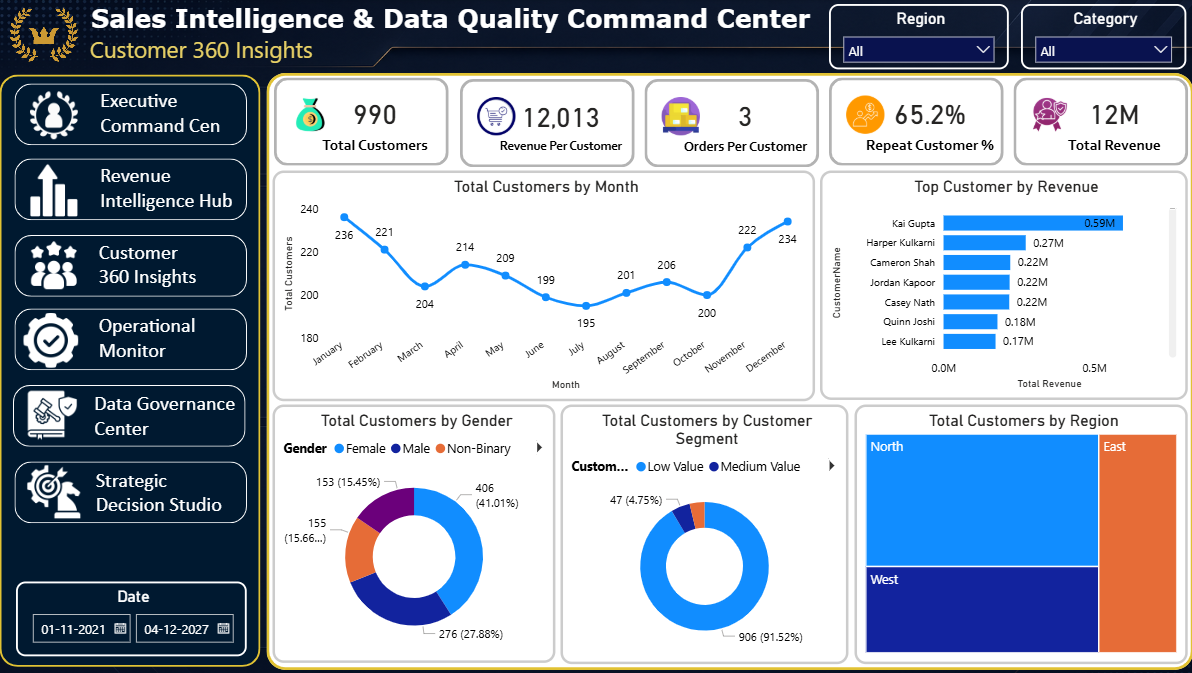

This screenshot's page, from the dashboard's own definition file:
{"tool":"powerbi","page":{"name":"Customer 360 Insights","canvas":[1280,720],"ordinal":2},"visuals":[{"type":"textbox","box":[0,0,1280.7,80.9],"z":0,"group":"g17"},{"type":"shape","box":[291.3,79,983,633.1],"z":0,"group":"g10"},{"type":"shape","box":[8,81.1,276.8,628.3],"z":0,"group":"g9"},{"type":"shape","box":[299.2,83.5,185.2,93.6],"z":0,"group":"g8"},{"type":"shape","box":[888.1,83.9,185.2,93.6],"z":0,"group":"g3"},{"type":"shape","box":[1084,83.9,185.2,93.6],"z":0,"group":"g1"},{"type":"shape","box":[692.1,84.7,185.2,93.6],"z":0,"group":"g6"},{"type":"shape","box":[496.3,85.6,185.2,93.6],"z":0,"group":"g7"},{"type":"textbox","box":[110.5,90.2,161.8,67.4],"z":0,"group":"g16"},{"type":"textbox","box":[109.5,170.6,161.8,67.4],"z":0,"group":"g15"},{"type":"textbox","box":[107.9,251.1,148.3,65.5],"z":0,"group":"g14"},{"type":"textbox","box":[108.3,329.5,161.8,65.5],"z":0,"group":"g13"},{"type":"textbox","box":[104.5,411.2,167.5,65.5],"z":0,"group":"g12"},{"type":"textbox","box":[105.7,492.9,161.8,63.6],"z":0,"group":"g11"},{"type":"donutChart","fields":{"Category":["Dim_Customer.Customer Segment"],"Y":["Measure.Total Customers"]},"box":[602.6,430.5,305.4,275.2],"z":577,"group":"g4"},{"type":"treemap","fields":{"Values":["Measure.Total Customers"],"Details":["Dim_Location.Region"]},"box":[913.8,430.5,353.6,275.2],"z":585,"group":"g4"},{"type":"donutChart","fields":{"Category":["Dim_Customer.Gender"],"Y":["Measure.Total Customers"]},"box":[297.2,430.8,300.2,274],"z":593,"group":"g4"},{"type":"clusteredBarChart","title":"Top Customer by Revenue","fields":{"Category":["Dim_Customer.CustomerName"],"Y":["Measure.Total Revenue"]},"box":[877.8,183.1,390,243.4],"z":625,"group":"g2"},{"type":"lineChart","fields":{"Category":["Dim_Date.Date.Variation.Date Hierarchy.Month"],"Y":["Measure.Total Customers"]},"box":[297.6,183.1,575.4,245],"z":750,"group":"g2"},{"type":"image","box":[15.4,9.6,77,59.7],"z":1000,"group":"g17"},{"type":"card","fields":{"Values":["Measure.Total Customers"]},"box":[328.3,83.5,156.1,93.6],"z":1000,"group":"g8"},{"type":"card","fields":{"Values":["Measure.Repeat Customer %"]},"box":[917.2,83.9,156.1,93.6],"z":1000,"group":"g3"},{"type":"group","id":"g1","title":"Card-5","box":[1084,83.9,183.9,93.4],"z":1000,"group":"g5"},{"type":"card","fields":{"Values":["Measure.Total Revenue"]},"box":[1113.1,83.9,156.1,93.6],"z":1000,"group":"g1"},{"type":"card","fields":{"Values":["Measure.Orders Per Customer"]},"box":[721.2,84.7,156.1,93.6],"z":1000,"group":"g6"},{"type":"card","fields":{"Values":["Measure.Revenue Per Customer"]},"box":[525.4,85.6,156.1,93.6],"z":1000,"group":"g7"},{"type":"shape","box":[24.3,90.6,246.5,65.5],"z":1000,"group":"g16"},{"type":"shape","box":[23.3,171,246.5,65.5],"z":1000,"group":"g15"},{"type":"group","id":"g2","title":"Group 2","box":[297.6,183.1,970.3,245],"z":1000,"group":"g10"},{"type":"shape","box":[23.7,250.8,246.5,65.5],"z":1000,"group":"g14"},{"type":"shape","box":[24.1,328.9,246.5,65.5],"z":1000,"group":"g13"},{"type":"shape","box":[22.8,410.3,246.5,65.5],"z":1000,"group":"g12"},{"type":"shape","box":[23.8,491,246.5,65.5],"z":1000,"group":"g11"},{"type":"group","id":"g3","title":"Card-4","box":[888.1,83.9,183.9,93.4],"z":2000,"group":"g5"},{"type":"image","box":[37.8,94.5,57.8,57.8],"z":2000,"group":"g16"},{"type":"image","box":[316.4,102.1,42.2,40.5],"z":2000,"group":"g8"},{"type":"image","box":[905.3,102.5,42.2,40.5],"z":2000,"group":"g3"},{"type":"image","box":[1101.2,102.5,42.2,40.5],"z":2000,"group":"g1"},{"type":"image","box":[709.3,103.3,42.2,40.5],"z":2000,"group":"g6"},{"type":"image","box":[513.5,104.2,42.2,40.5],"z":2000,"group":"g7"},{"type":"image","box":[36.8,174.9,57.8,57.8],"z":2000,"group":"g15"},{"type":"image","box":[37.2,254.7,57.8,57.8],"z":2000,"group":"g14"},{"type":"image","box":[33.2,333.3,57.8,57.8],"z":2000,"group":"g13"},{"type":"image","box":[36.3,414.2,57.8,57.8],"z":2000,"group":"g12"},{"type":"group","id":"g4","title":"Group 1","box":[297.2,430.5,970.3,275.2],"z":2000,"group":"g10"},{"type":"image","box":[37.3,494.9,57.8,57.8],"z":2000,"group":"g11"},{"type":"group","id":"g5","title":"Group 3","box":[299.2,83.5,968.7,95.4],"z":3000,"group":"g10"},{"type":"group","id":"g6","title":"Card-3","box":[692.1,84.7,183.9,93.4],"z":3000,"group":"g5"},{"type":"group","id":"g7","title":"Card-2","box":[496.3,85.6,183.9,93.4],"z":4000,"group":"g5"},{"type":"group","id":"g8","title":"Card-1","box":[299.2,83.5,184.7,92.9],"z":5000,"group":"g5"},{"type":"slicer","title":"Date","fields":{"Values":["Dim_Date.Date"]},"box":[25.4,618.7,245,79.5],"z":5000,"group":"g9"},{"type":"group","id":"g9","title":"Base","box":[0,0,1280.7,709.4],"z":6250},{"type":"group","id":"g10","title":"Center","box":[291.3,79,983,633.1],"z":6501},{"type":"group","id":"g11","title":"Button-6","box":[23.8,491,246.5,65.5],"z":9000,"group":"g9"},{"type":"group","id":"g12","title":"Button-5","box":[22.8,410.3,249.3,66.4],"z":9062,"group":"g9"},{"type":"group","id":"g13","title":"Button-4","box":[24.1,328.9,246.5,66.1],"z":9125,"group":"g9"},{"type":"group","id":"g14","title":"Button-3","box":[23.7,250.8,246.5,65.8],"z":9250,"group":"g9"},{"type":"group","id":"g15","title":"Button-2","box":[23.3,170.6,247.9,67.4],"z":9500,"group":"g9"},{"type":"group","id":"g16","title":"Button-1","box":[24.3,90.2,248.4,67.4],"z":10000,"group":"g9"},{"type":"slicer","title":"Category","fields":{"Values":["Dim_Product.Category"]},"box":[1091.9,5.8,175.2,69.3],"z":10500,"group":"g9"},{"type":"slicer","title":"Region","fields":{"Values":["Dim_Location.Region"]},"box":[887.8,5.8,190.7,69.3],"z":11000,"group":"g9"},{"type":"group","id":"g17","title":"Header","box":[0,0,1280.7,80.9],"z":11500,"group":"g9"}]}

Visuals, with their boxes in screenshot pixels (x1, y1, x2, y2), scaled from the page's 1280x720 canvas onto the 1192x673 screenshot:
textbox: 0:0:1191:76
shape: 271:74:1187:666
shape: 7:76:265:663
shape: 279:78:451:166
shape: 827:78:1000:166
shape: 1009:78:1182:166
shape: 645:79:817:167
shape: 462:80:635:168
textbox: 103:84:254:147
textbox: 102:159:253:222
textbox: 100:235:239:296
textbox: 101:308:252:369
textbox: 97:384:253:446
textbox: 98:461:249:520
donutChart - Dim_Customer.Customer Segment x Measure.Total Customers: 561:402:846:660
treemap - Measure.Total Customers x Dim_Location.Region: 851:402:1180:660
donutChart - Dim_Customer.Gender x Measure.Total Customers: 277:403:556:659
"Top Customer by Revenue" clusteredBarChart: 817:171:1181:399
lineChart - Dim_Date.Date.Variation.Date Hierarchy.Month x Measure.Total Customers: 277:171:813:400
image: 14:9:86:65
card - Measure.Total Customers: 306:78:451:166
card - Measure.Repeat Customer %: 854:78:1000:166
"Card-5" group: 1009:78:1181:166
card - Measure.Total Revenue: 1037:78:1182:166
card - Measure.Orders Per Customer: 672:79:817:167
card - Measure.Revenue Per Customer: 489:80:635:168
shape: 23:85:252:146
shape: 22:160:251:221
"Group 2" group: 277:171:1181:400
shape: 22:234:252:296
shape: 22:307:252:369
shape: 21:384:251:445
shape: 22:459:252:520
"Card-4" group: 827:78:998:166
image: 35:88:89:142
image: 295:95:334:133
image: 843:96:882:134
image: 1025:96:1065:134
image: 661:97:700:134
image: 478:97:517:135
image: 34:163:88:218
image: 35:238:88:292
image: 31:312:85:366
image: 34:387:88:441
"Group 1" group: 277:402:1180:660
image: 35:463:89:517
"Group 3" group: 279:78:1181:167
"Card-3" group: 645:79:816:166
"Card-2" group: 462:80:633:167
"Card-1" group: 279:78:451:165
"Date" slicer: 24:578:252:653
"Base" group: 0:0:1191:663
"Center" group: 271:74:1187:666
"Button-6" group: 22:459:252:520
"Button-5" group: 21:384:253:446
"Button-4" group: 22:307:252:369
"Button-3" group: 22:234:252:296
"Button-2" group: 22:159:253:222
"Button-1" group: 23:84:254:147
"Category" slicer: 1017:5:1180:70
"Region" slicer: 827:5:1004:70
"Header" group: 0:0:1191:76
